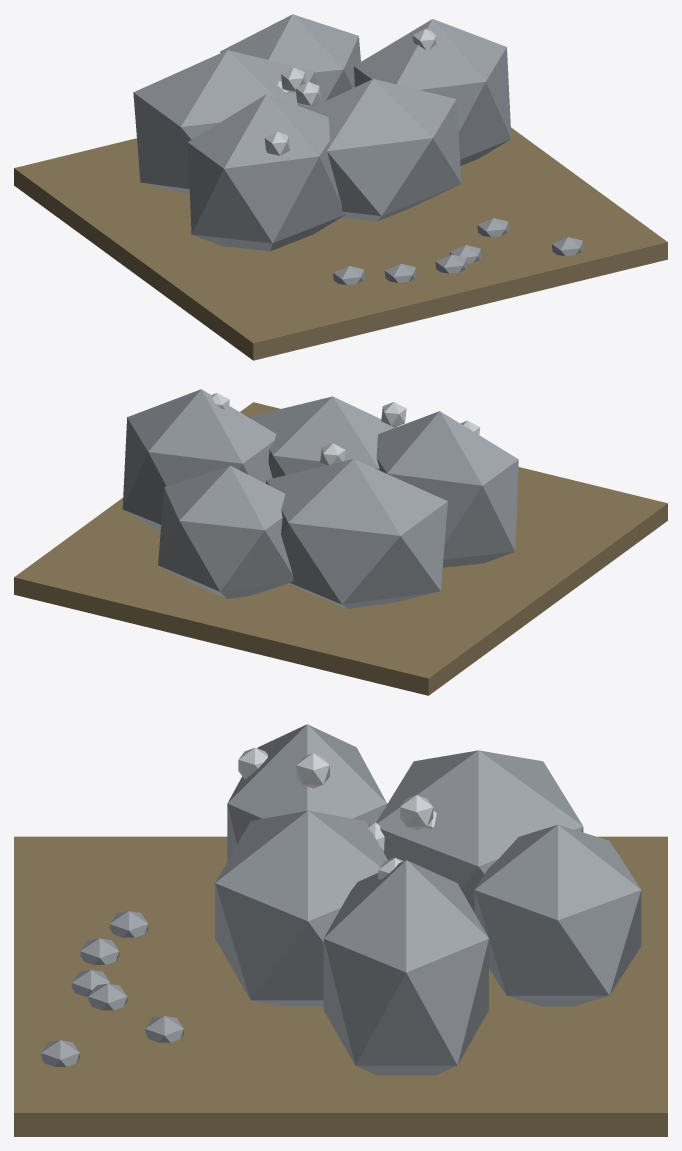
Rendered from Deposit_Tin_Mining.fbx.
3 renders of one model, top to bottom at view 1: azimuth 30°, elevation 25°; view 2: azimuth 150°, elevation 25°; view 3: azimuth 270°, elevation 25°, orthographic. The views are drawn at different scales.
Visible parts, largest first — view 1: Deposit_Tin_Mining_Body; view 2: Deposit_Tin_Mining_Body; view 3: Deposit_Tin_Mining_Body.
Part boxes in pixels (<box>): Deposit_Tin_Mining_Body: <box>14,14,667,360</box>; Deposit_Tin_Mining_Body: <box>14,389,667,695</box>; Deposit_Tin_Mining_Body: <box>14,724,667,1136</box>.
Size of the model in its own units: 1 by 0.39 by 1.
